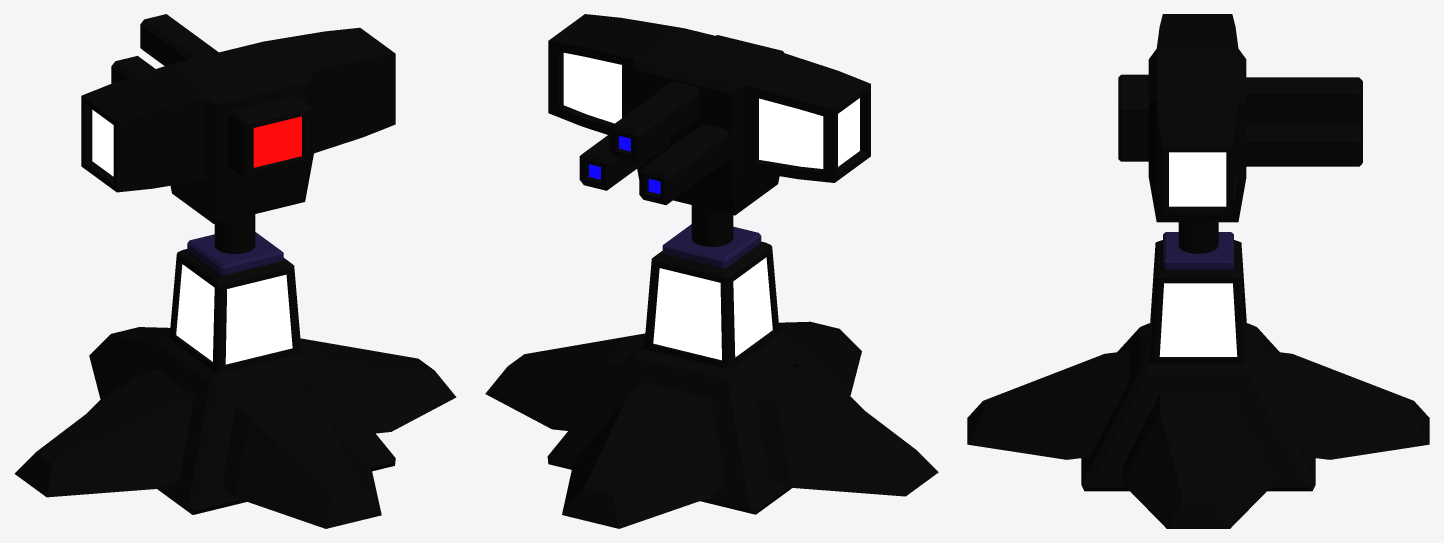
File: Turret.fbx
3 renders of one model, left to right at view 1: azimuth 30°, elevation 25°; view 2: azimuth 150°, elevation 25°; view 3: azimuth 270°, elevation 25°, orthographic. The views are drawn at different scales.
Visible parts, largest first — view 1: TurretBase, TurretHead; view 2: TurretBase, TurretHead; view 3: TurretBase, TurretHead.
Boxes of the visible parts, <box> form: TurretBase: <box>14,214,456,528</box>; TurretHead: <box>81,14,395,223</box>; TurretBase: <box>485,205,938,528</box>; TurretHead: <box>548,14,870,215</box>; TurretBase: <box>967,222,1429,528</box>; TurretHead: <box>1118,14,1362,222</box>.
Bounding box in the file's own units: 945 × 945 × 836.
Materials: 2 (2 with a texture image).
